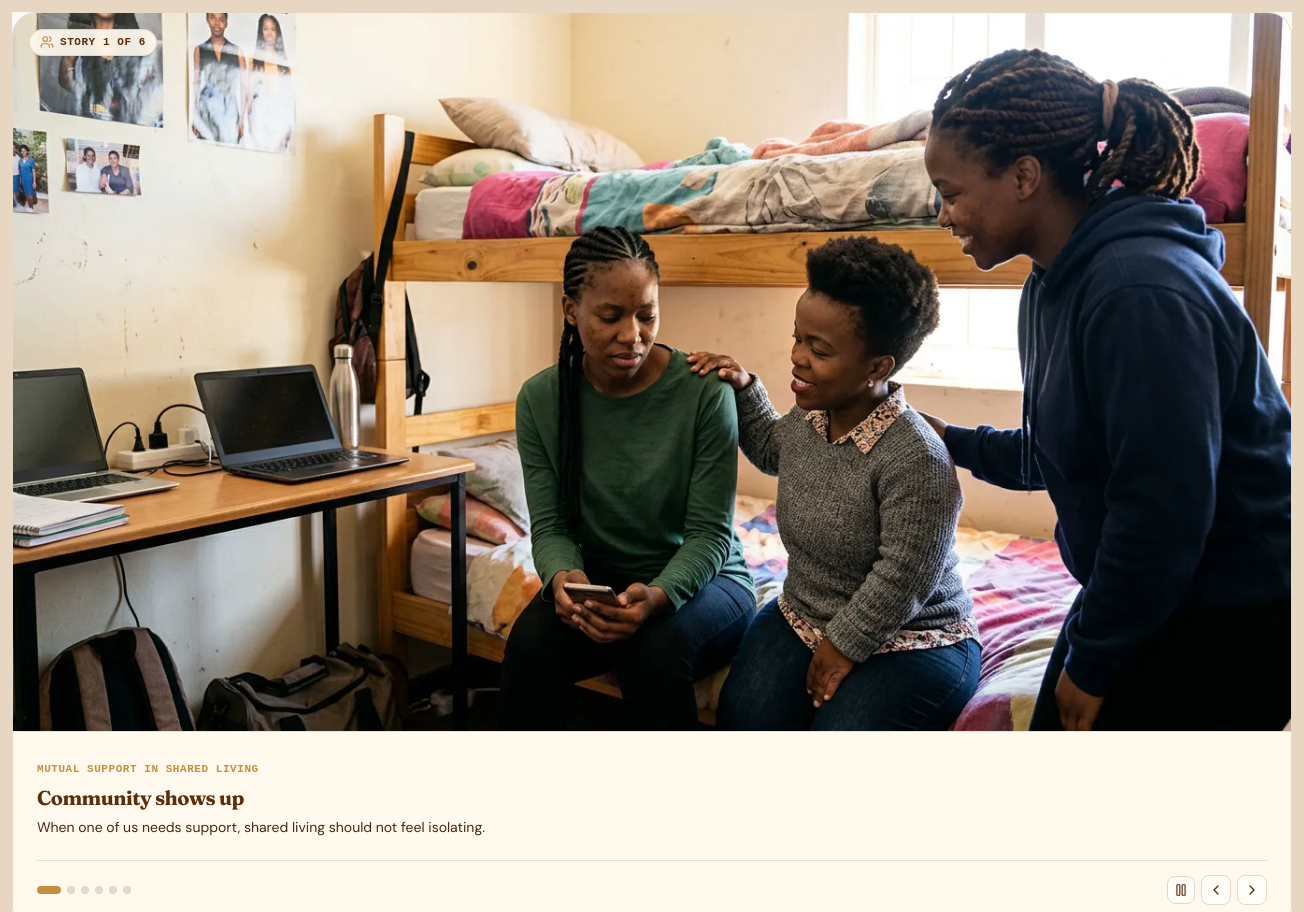
Test: Hut4Devs Landing Story Carousel Framework (Checkpoint 01) › renders LandingStoryCarousel with accessible controls and navigates slides
Expected: the heading "Community shows up" is shown, 37,785 -> 244,810
// Check next button navigates to slide 2 (with integrated image and heading)
Click the button named "Next story" at (1252, 890), box 1237,875 -> 1267,905
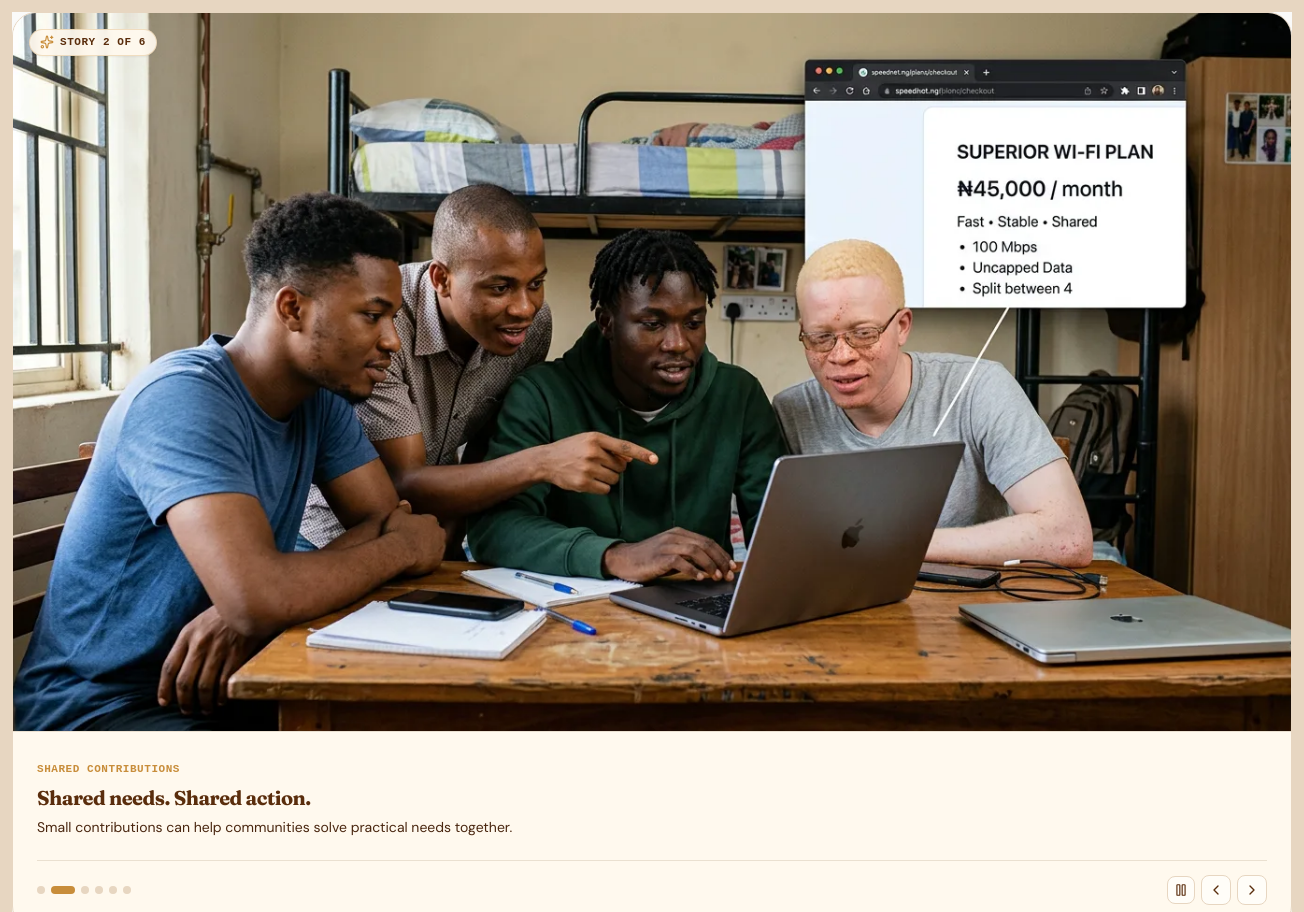
Now the text "Story 2 of 6" is shown, box 60,34 -> 146,50
Now the picture named "Four African roommates reviewing a superior Wi-Fi plan" is shown
Now the heading "Shared needs. Shared action." is shown, box 37,785 -> 311,810
// Check previous button navigates back to slide 1
Click the button named "Previous story" at (1216, 890), box 1201,875 -> 1231,905
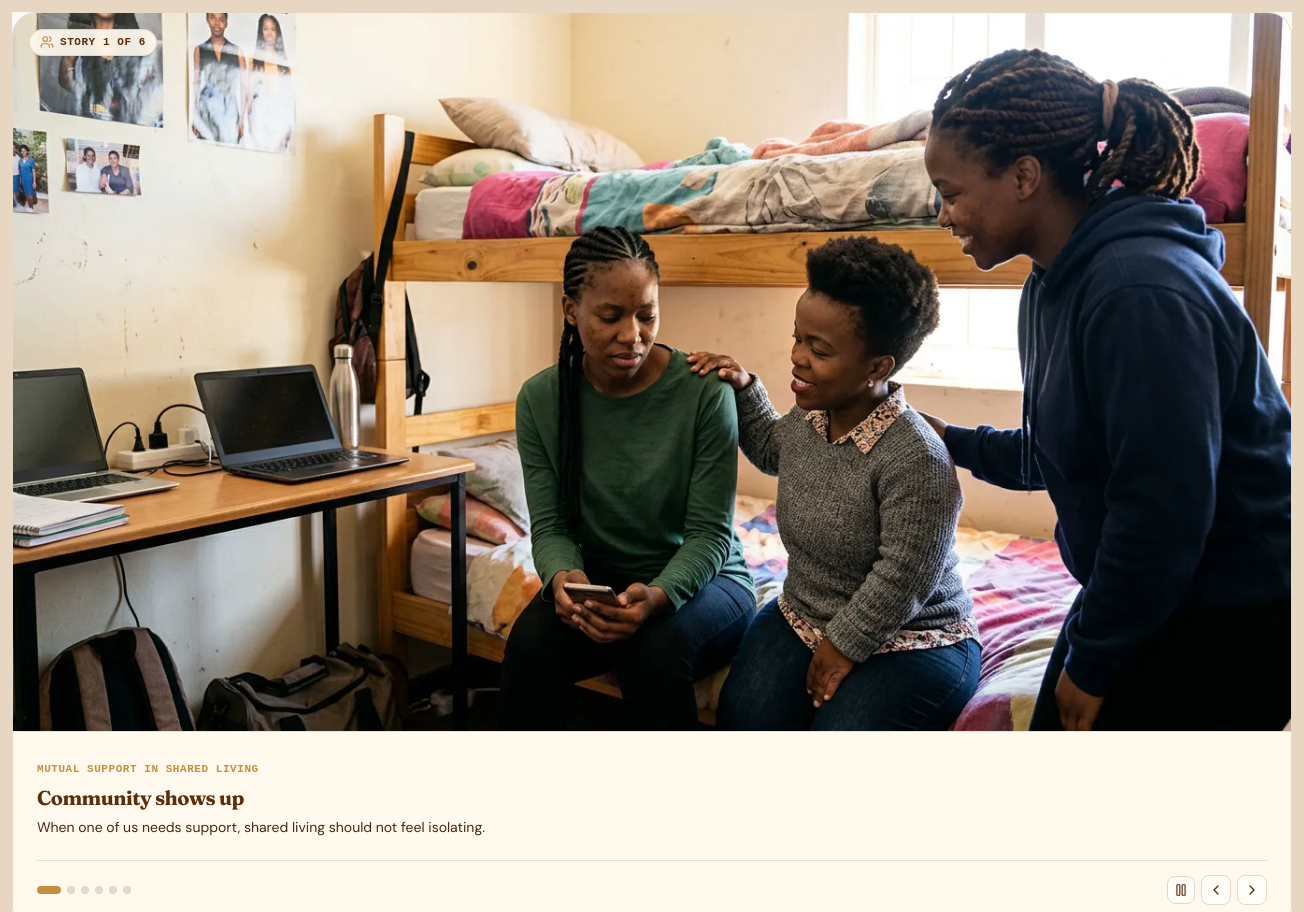
Now the picture named "Three African roommates supporting one another" is shown
// Check clicking dot 3 navigates to slide 3 with image and heading
Click the tab named "Go to story 3" at (85, 890), box 81,886 -> 89,894
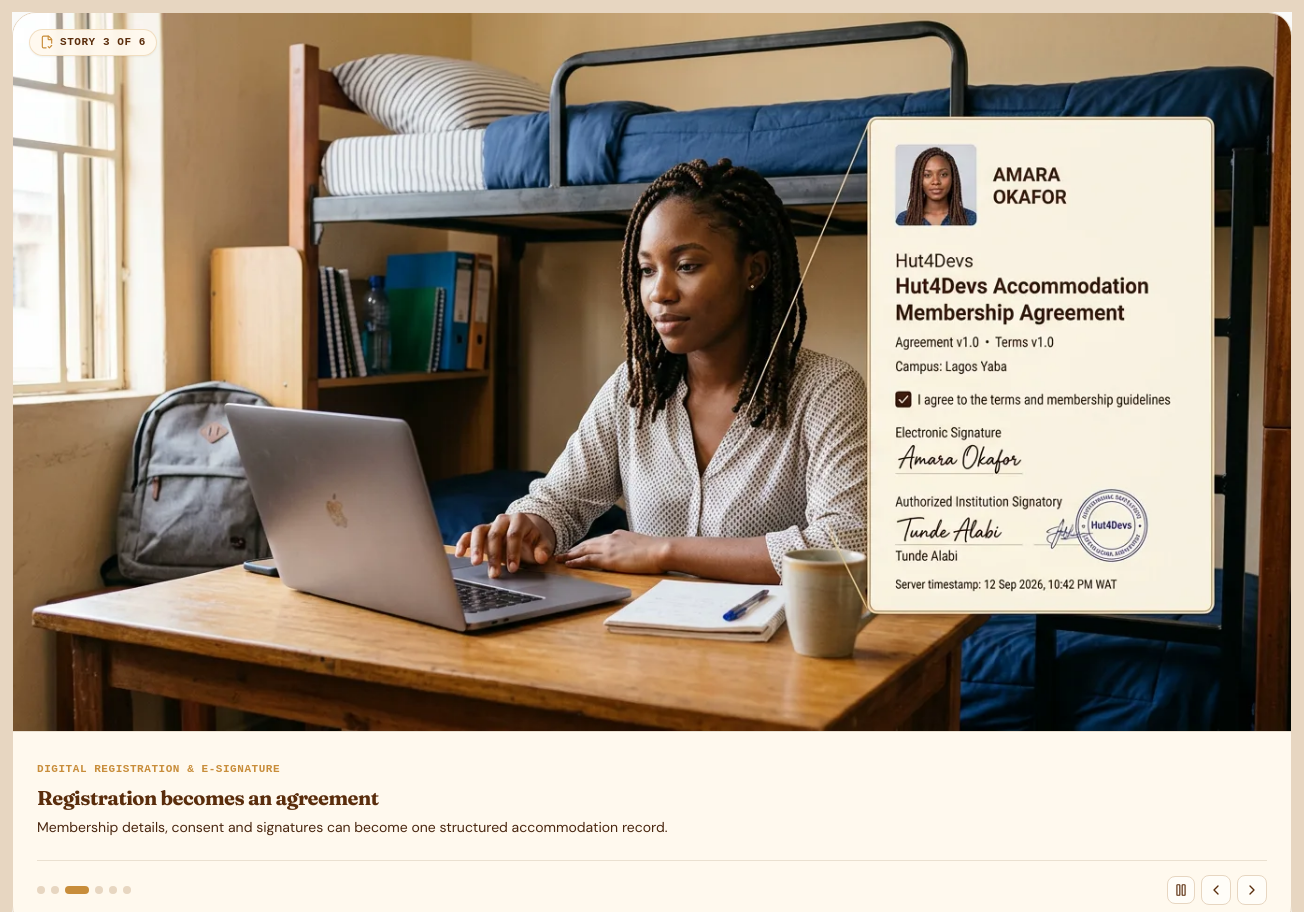
Now the text "Story 3 of 6" is shown, box 60,34 -> 146,50
Now the picture named "A young African Member reviewing and signing a digital accommodation membership agreement" is shown
Now the heading "Registration becomes an agreement" is shown, box 37,785 -> 378,810
// Check clicking dot 4 navigates to slide 4 with image and heading
Click the tab named "Go to story 4" at (99, 890), box 95,886 -> 103,894
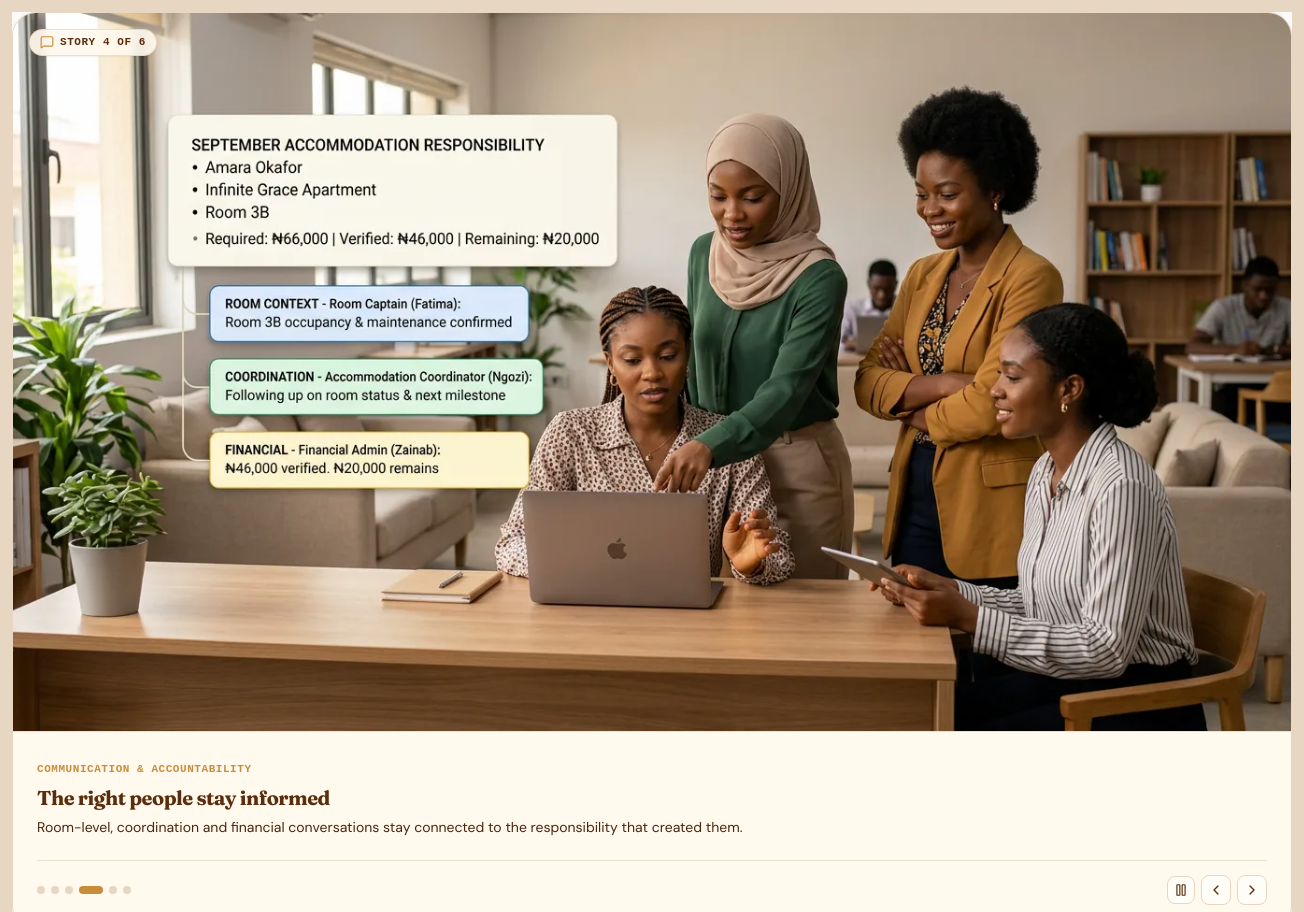
Now the text "Story 4 of 6" is shown, box 60,34 -> 146,50
Now the picture named "A Fellow, a Muslim Room Captain, an Accommodation Coordinator, and a Financial Admin" is shown
Now the heading "The right people stay informed" is shown, box 37,785 -> 330,810
// Check clicking dot 5 navigates to slide 5 with image and heading
Click the tab named "Go to story 5" at (113, 890), box 109,886 -> 117,894
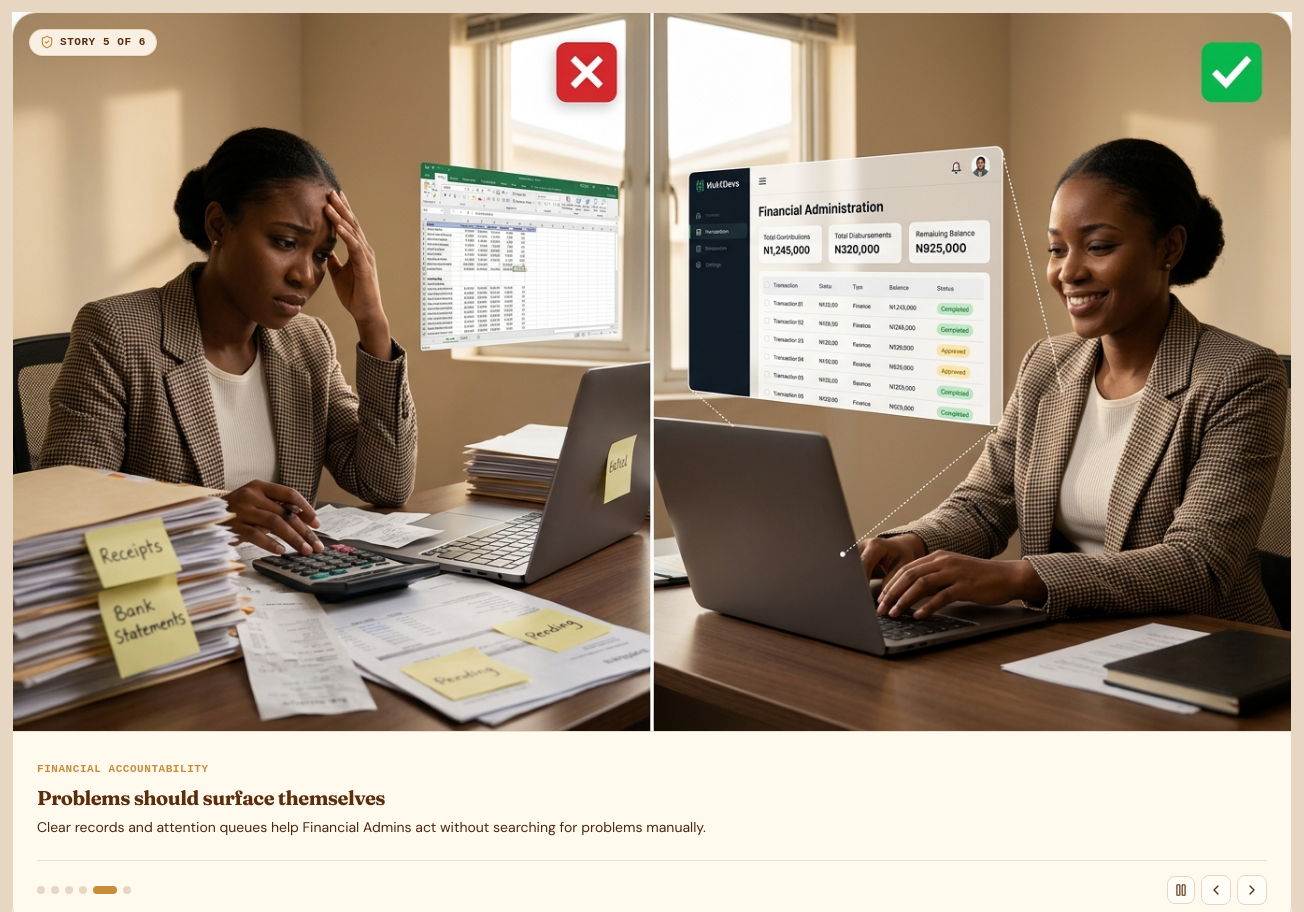
Now the text "Story 5 of 6" is shown, box 60,34 -> 146,50
Now the picture named "Comparison of stressed manual accounting with Excel versus calm structured oversight" is shown
Now the heading "Problems should surface themselves" is shown, box 37,785 -> 385,810
// Check clicking dot 6 navigates to slide 6 with image and heading
Click the tab named "Go to story 6" at (127, 890), box 123,886 -> 131,894
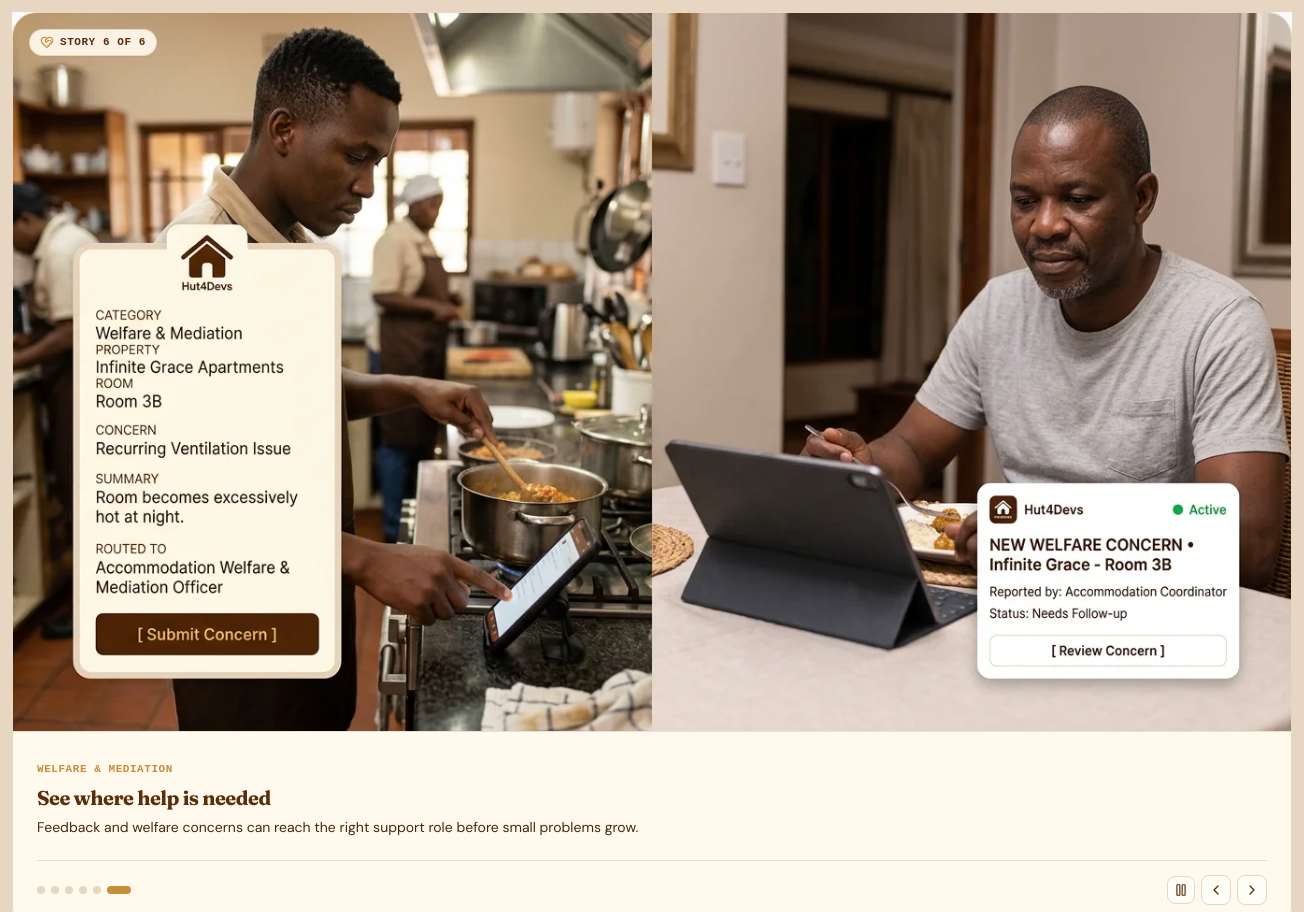
Now the text "Story 6 of 6" is shown, box 60,34 -> 146,50
Now the picture named "An African Accommodation Coordinator logging a room concern from a lodge kitchen" is shown
Now the heading "See where help is needed" is shown, box 37,785 -> 271,810
